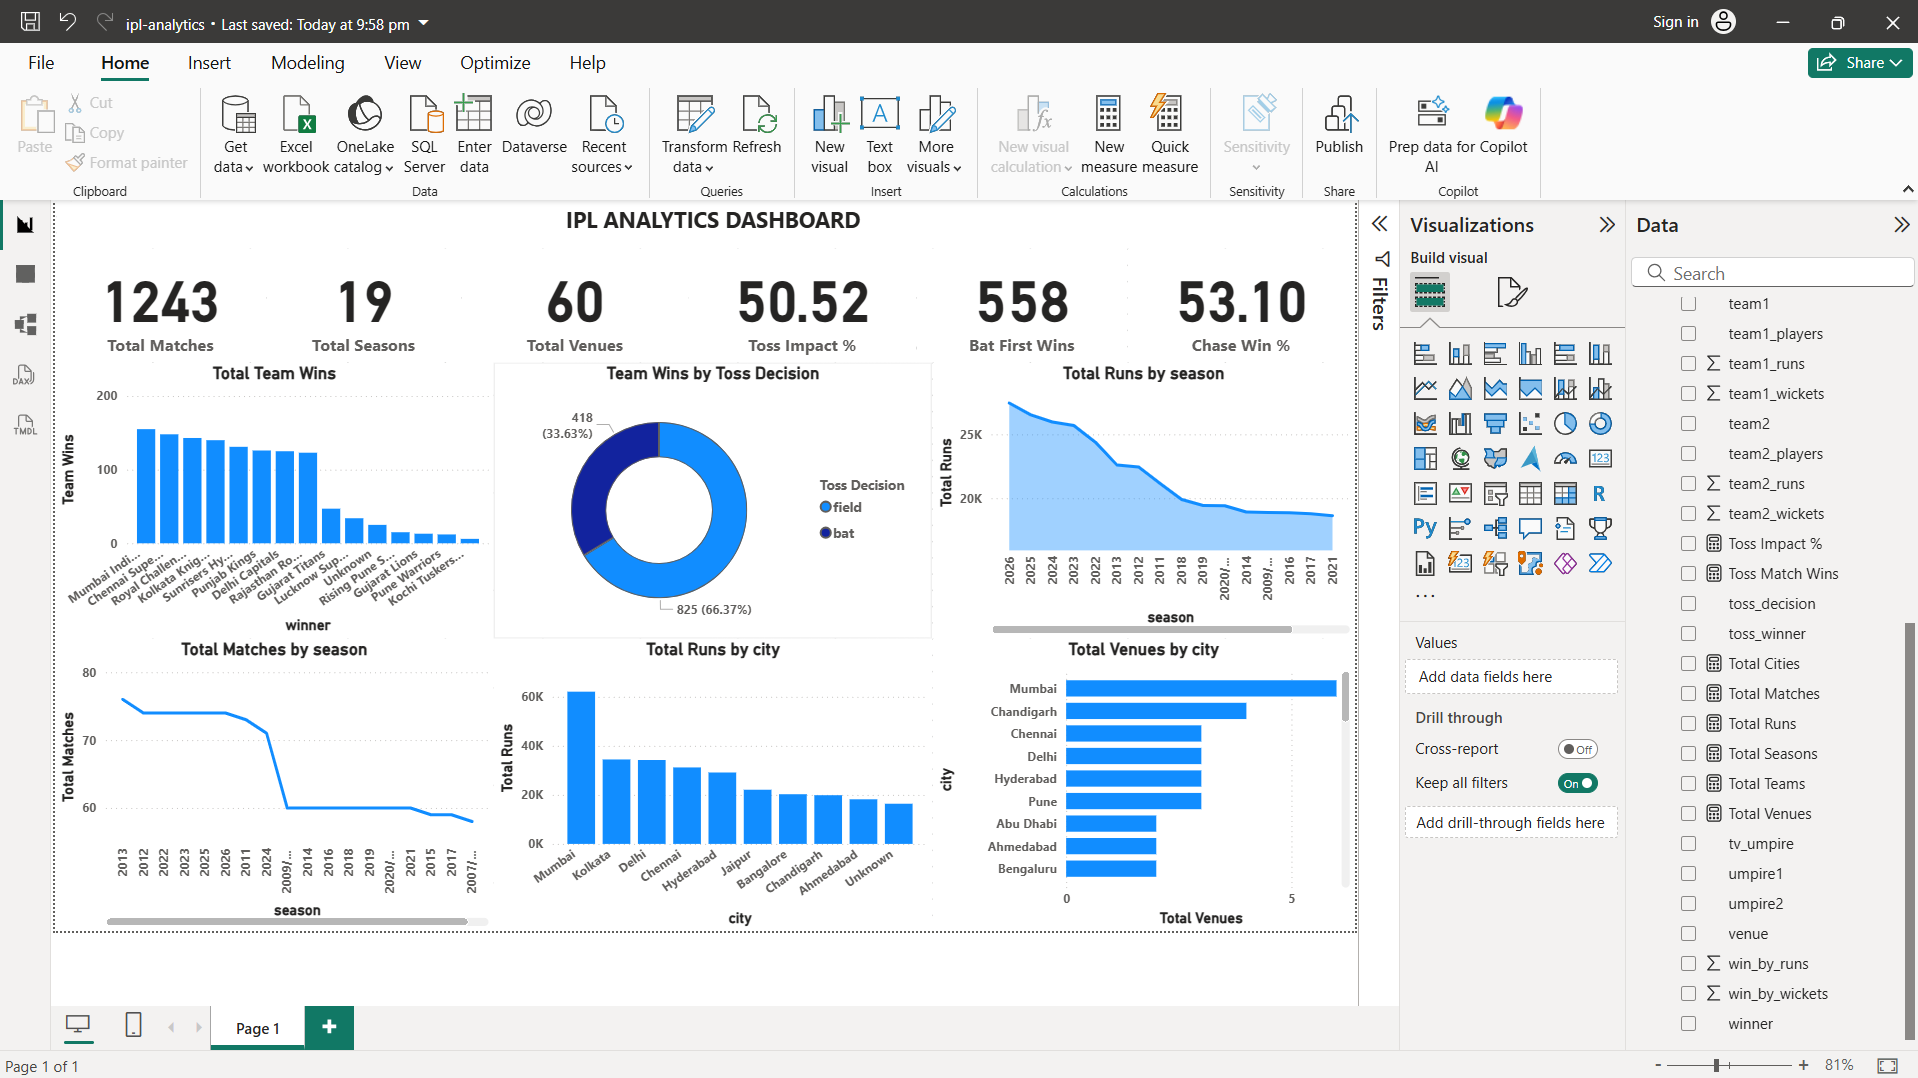

Layout of this report page (visuals, bound fields, positions):
{"tool":"powerbi","page":{"name":"Page 1","canvas":[1280,720],"ordinal":0},"visuals":[{"type":"textbox","box":[16,0,1264,48],"z":0},{"type":"columnChart","title":"Total Team Wins","fields":{"Category":["master_ipl.winner"],"Y":["master_ipl.Team Wins"]},"box":[0,160,432,272],"z":1000},{"type":"donutChart","title":"Team Wins by Toss Decision","fields":{"Category":["master_ipl.toss_decision"],"Y":["master_ipl.Team Wins"]},"box":[432,160,432,272],"z":2000},{"type":"columnChart","fields":{"Category":["master_ipl.city"],"Y":["master_ipl.Total Runs"]},"box":[432,432,432,288],"z":3000},{"type":"card","fields":{"Values":["master_ipl.Total Matches"]},"box":[0,48,208,112],"z":4000},{"type":"card","fields":{"Values":["master_ipl.Total Seasons"]},"box":[208,48,192,112],"z":5000},{"type":"card","fields":{"Values":["master_ipl.Total Venues"]},"box":[400,48,224,112],"z":6000},{"type":"card","fields":{"Values":["master_ipl.Toss Impact %"]},"box":[624,48,224,112],"z":7000},{"type":"card","fields":{"Values":["master_ipl.Bat First Wins"]},"box":[848,48,208,112],"z":8000},{"type":"card","fields":{"Values":["master_ipl.Chase Win %"]},"box":[1056,48,224,112],"z":9000},{"type":"areaChart","fields":{"Category":["master_ipl.season"],"Y":["master_ipl.Total Runs"]},"box":[864,160,416,272],"z":10000},{"type":"barChart","fields":{"Category":["master_ipl.city"],"Y":["master_ipl.Total Venues"]},"box":[864,432,416,288],"z":11000},{"type":"lineChart","fields":{"Y":["master_ipl.Total Matches"],"Category":["master_ipl.season"]},"box":[0,432,432,288],"z":12000}]}

Visuals, with their boxes on the page's 1280x720 design canvas (x1, y1, x2, y2). These are canvas units, not pixel positions in the 1918x1078 screenshot, which may show the page scaled, cropped or inside an application window:
textbox: (16, 0, 1280, 48)
"Total Team Wins" columnChart: (0, 160, 432, 432)
"Team Wins by Toss Decision" donutChart: (432, 160, 864, 432)
columnChart - master_ipl.city x master_ipl.Total Runs: (432, 432, 864, 720)
card - master_ipl.Total Matches: (0, 48, 208, 160)
card - master_ipl.Total Seasons: (208, 48, 400, 160)
card - master_ipl.Total Venues: (400, 48, 624, 160)
card - master_ipl.Toss Impact %: (624, 48, 848, 160)
card - master_ipl.Bat First Wins: (848, 48, 1056, 160)
card - master_ipl.Chase Win %: (1056, 48, 1280, 160)
areaChart - master_ipl.season x master_ipl.Total Runs: (864, 160, 1280, 432)
barChart - master_ipl.city x master_ipl.Total Venues: (864, 432, 1280, 720)
lineChart - master_ipl.Total Matches x master_ipl.season: (0, 432, 432, 720)
